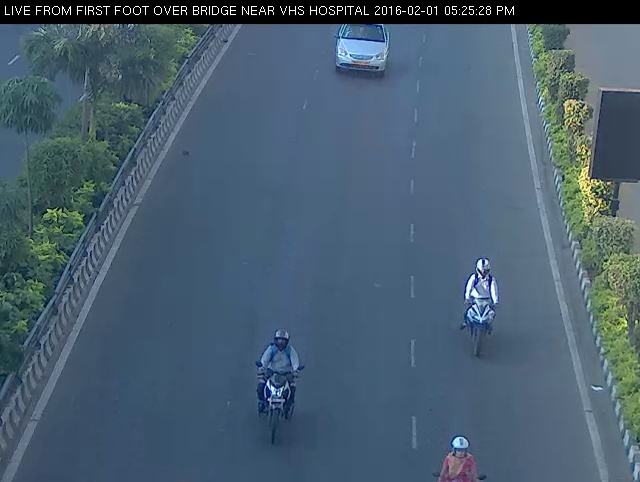Car: (319, 23, 411, 91)
Person: (241, 320, 314, 455), (452, 250, 506, 368), (432, 422, 492, 482)
